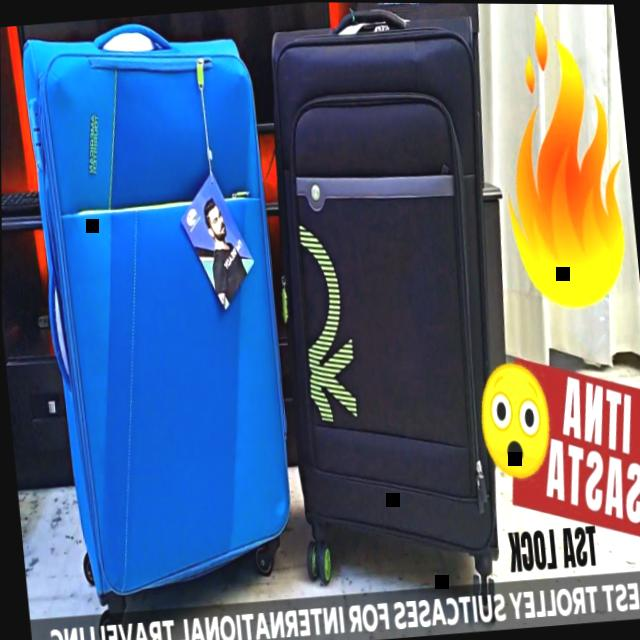luggage: (14, 7, 308, 611), (246, 1, 525, 583)
